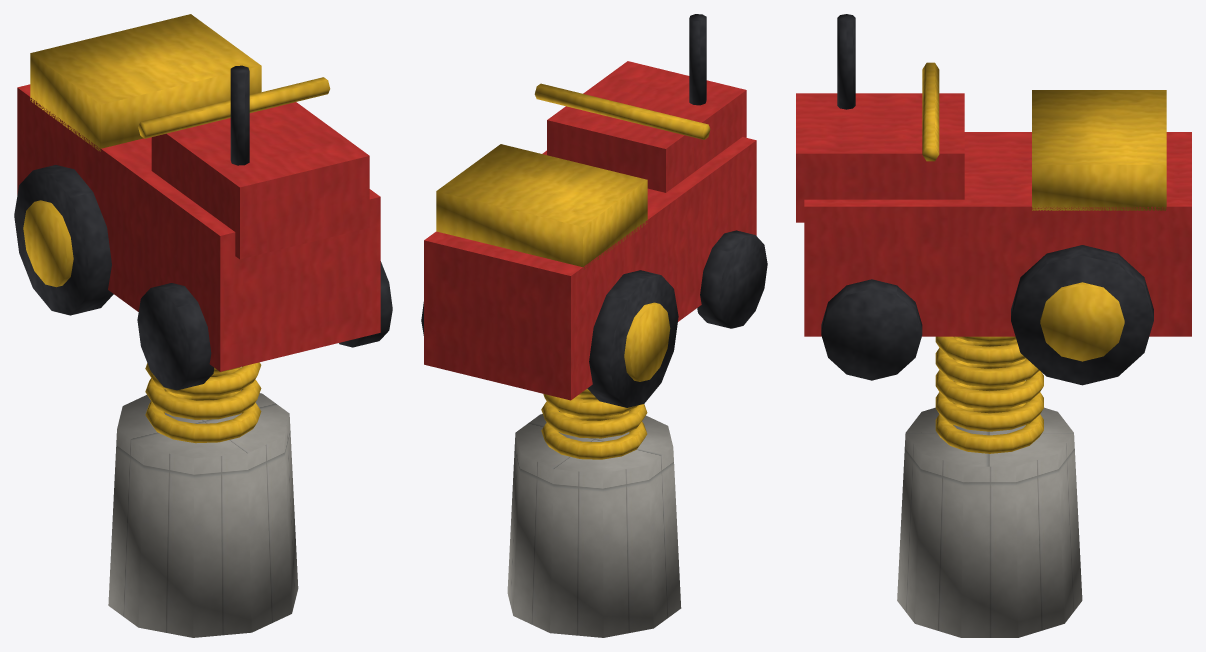
The model's file is spring_rider_tractor.glb.
3 renders of one model, left to right at view 1: azimuth 30°, elevation 25°; view 2: azimuth 150°, elevation 25°; view 3: azimuth 270°, elevation 25°, orthographic. The views are drawn at different scales.
Parts seen in each view (by area): view 1: RiderTr_red, RiderTr_conc, RiderTr_yellow, RiderTr_black, RiderTr_spring; view 2: RiderTr_red, RiderTr_conc, RiderTr_yellow, RiderTr_black, RiderTr_spring; view 3: RiderTr_red, RiderTr_conc, RiderTr_yellow, RiderTr_black, RiderTr_spring.
Boxes of the visible parts, box(x1,y1,x2,y2) form: RiderTr_red: box(17, 84, 380, 371); RiderTr_conc: box(108, 389, 298, 637); RiderTr_yellow: box(23, 14, 330, 287); RiderTr_black: box(14, 65, 392, 390); RiderTr_spring: box(145, 362, 261, 443); RiderTr_red: box(424, 61, 756, 400); RiderTr_conc: box(507, 411, 681, 637); RiderTr_yellow: box(436, 83, 710, 381); RiderTr_black: box(421, 14, 767, 407); RiderTr_spring: box(541, 388, 647, 459); RiderTr_red: box(796, 93, 1191, 336); RiderTr_conc: box(897, 407, 1082, 637); RiderTr_yellow: box(922, 62, 1166, 361); RiderTr_black: box(821, 14, 1153, 385); RiderTr_spring: box(935, 336, 1043, 453).
Size of the model in its own units: 0.573 by 1.48 by 0.94.
4 materials, 4 textured.
